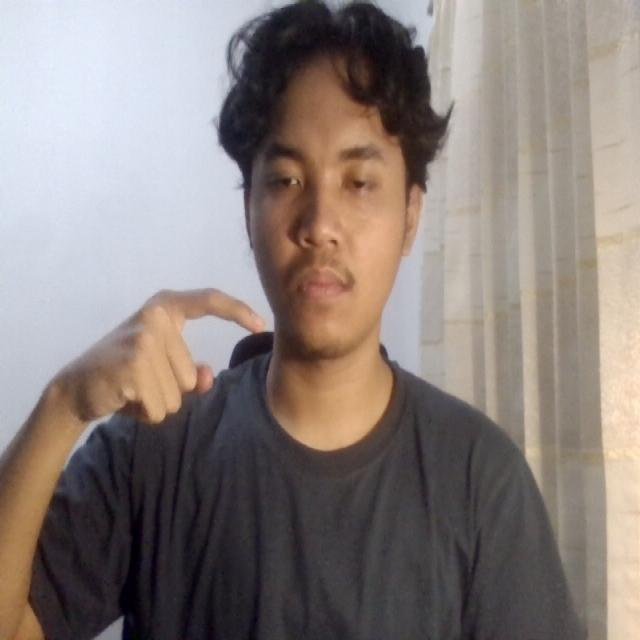N: (91, 257, 292, 464)
